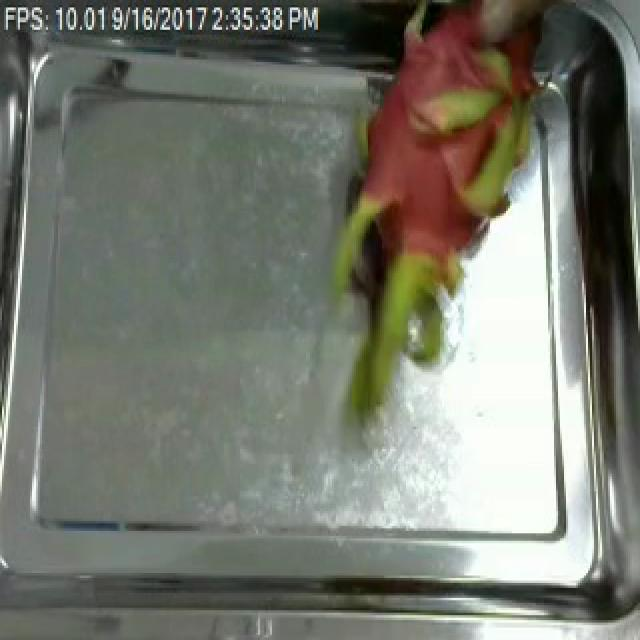fruit: (288, 0, 590, 417)
